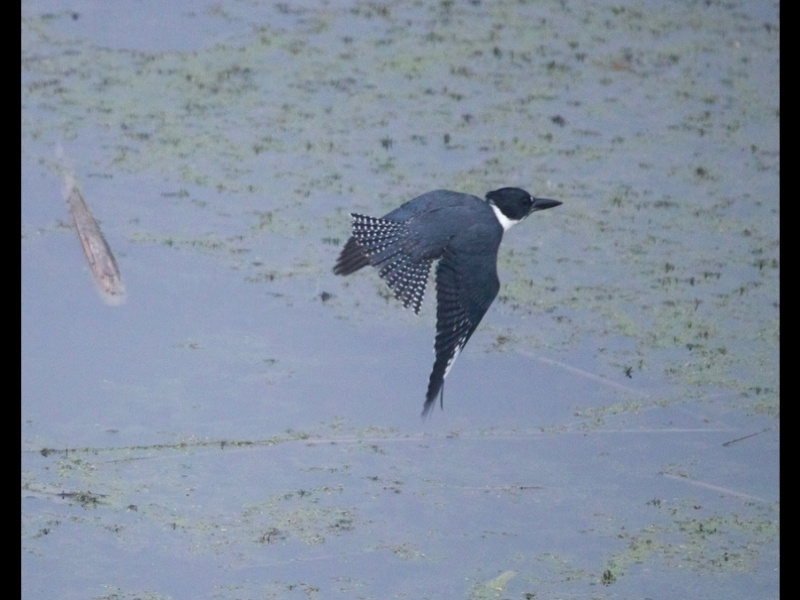kingfisher: (331, 184, 564, 423)
